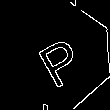P_NW: (28, 25, 86, 87)
